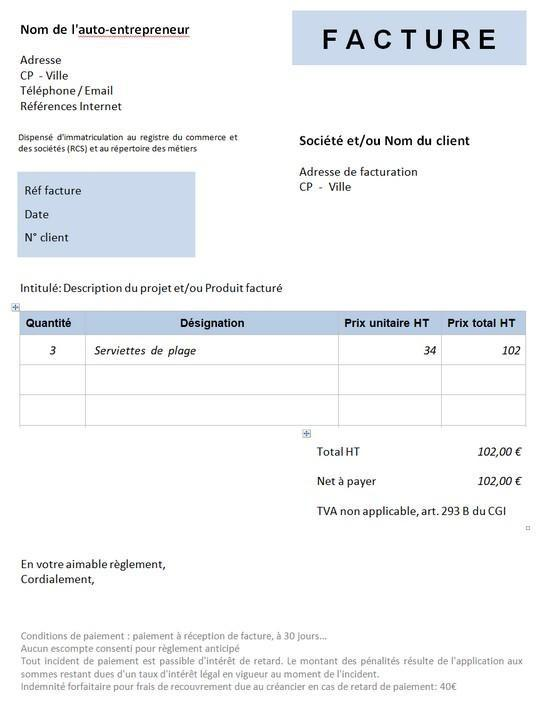ROI: (19, 311, 528, 426), (17, 630, 530, 696), (315, 442, 527, 525), (291, 127, 495, 213), (18, 19, 197, 114), (18, 175, 190, 253)
